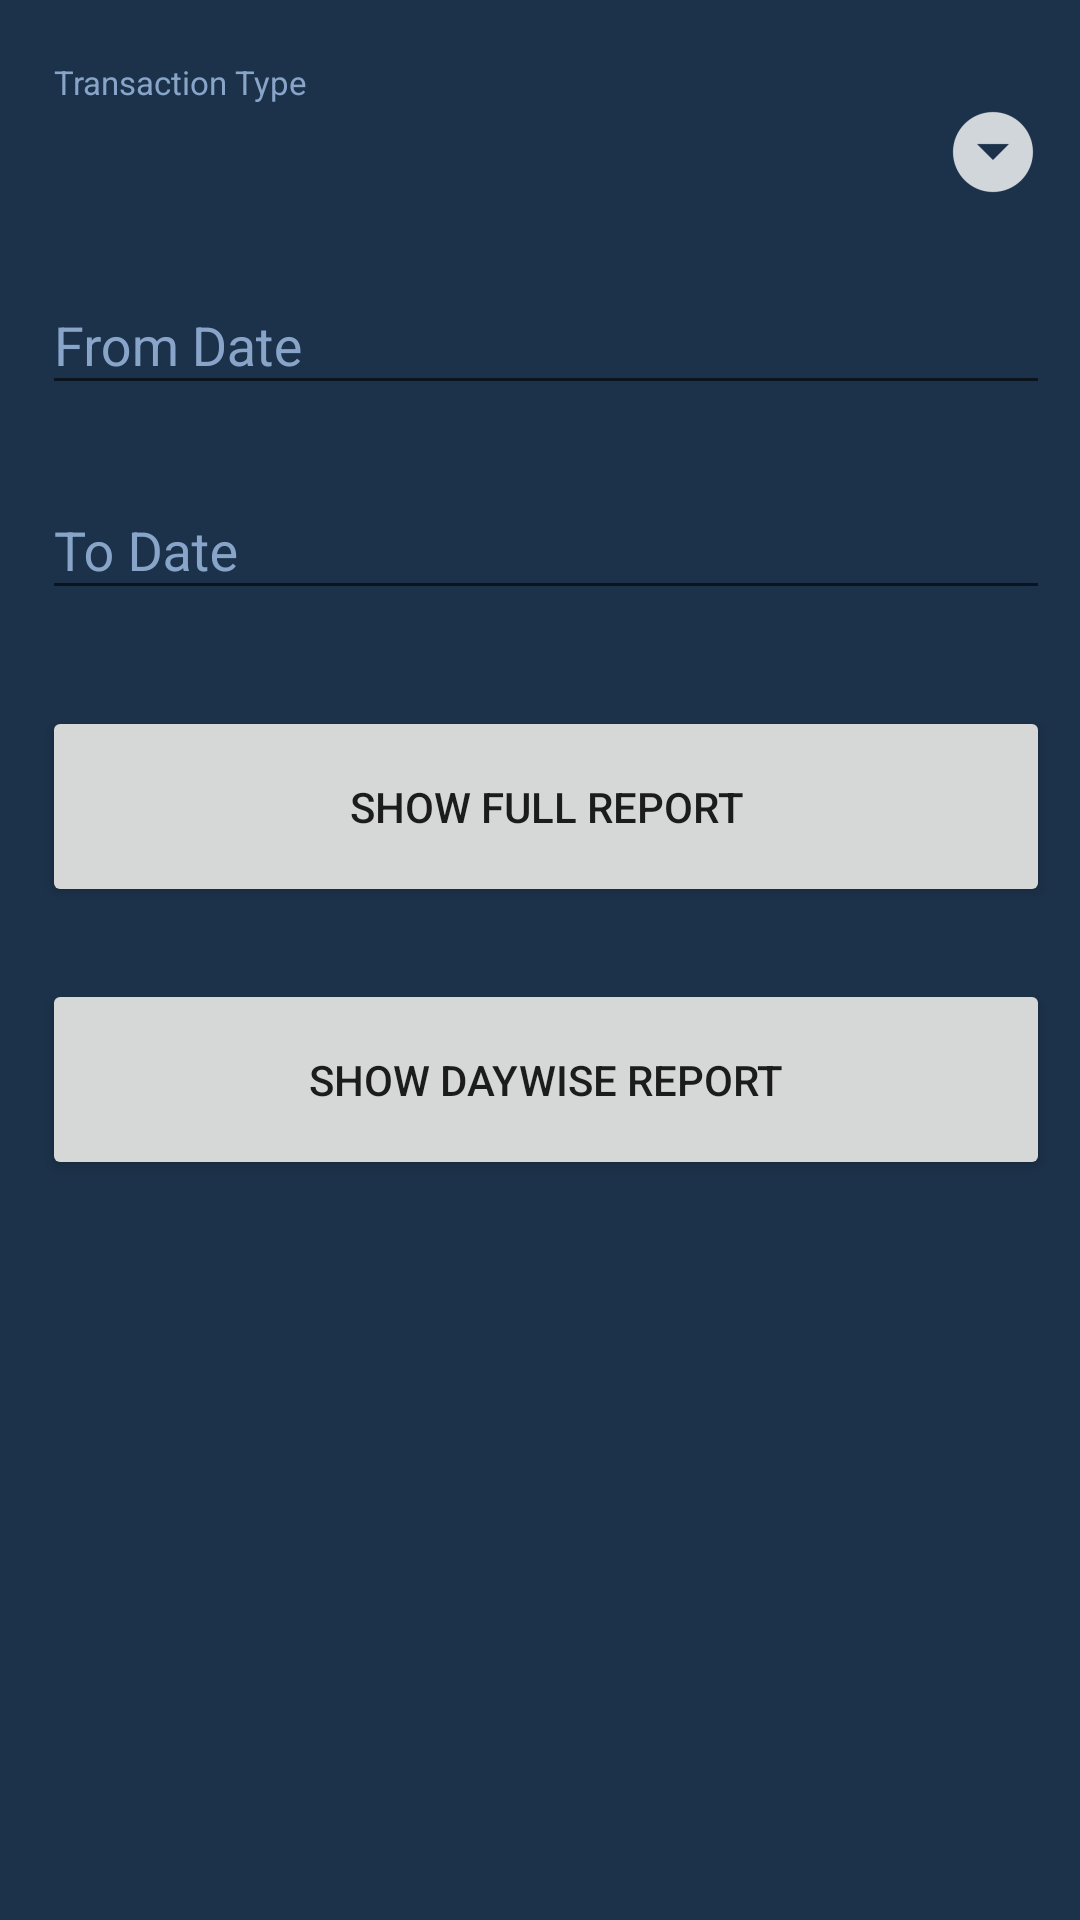

Where icons sit on this 1080×1920 app screen, as [x1=x1, y1=y1, x2=x2, y2=y2]:
drop: [x1=953, y1=112, x2=1033, y2=192]
